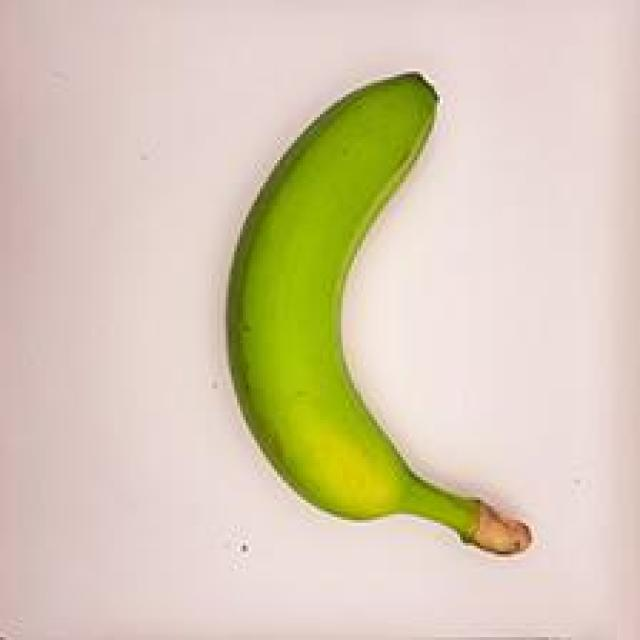Unripe: (210, 54, 552, 584)
